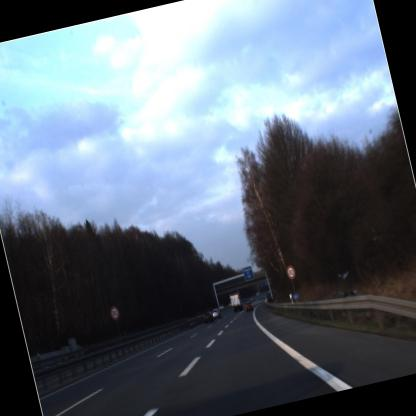prohibitory: (104, 304, 125, 326), (283, 260, 301, 284)
